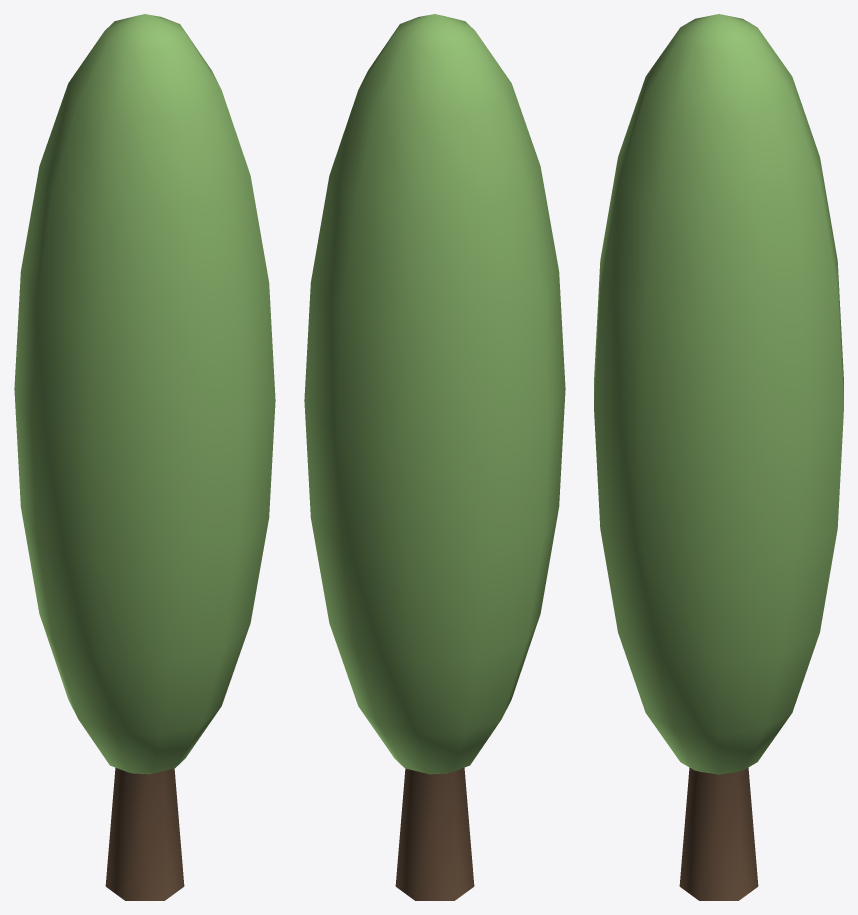
The model's file is poplar.glb.
The picture shows the model from 3 angles, left to right: view 1: azimuth 30°, elevation 25°; view 2: azimuth 150°, elevation 25°; view 3: azimuth 270°, elevation 25°; orthographic projection.
Parts seen in each view (by area): view 1: poplar_leafPoplar, poplar_trunk; view 2: poplar_leafPoplar, poplar_trunk; view 3: poplar_leafPoplar, poplar_trunk.
Boxes of the visible parts, x1,y1,x2,y2 form: poplar_leafPoplar: [14, 14, 275, 774]; poplar_trunk: [105, 767, 184, 900]; poplar_leafPoplar: [304, 14, 565, 774]; poplar_trunk: [395, 767, 474, 900]; poplar_leafPoplar: [594, 14, 843, 774]; poplar_trunk: [679, 767, 758, 900].
Bounding box in the file's own units: 0.3 × 1.1 × 0.2853.
